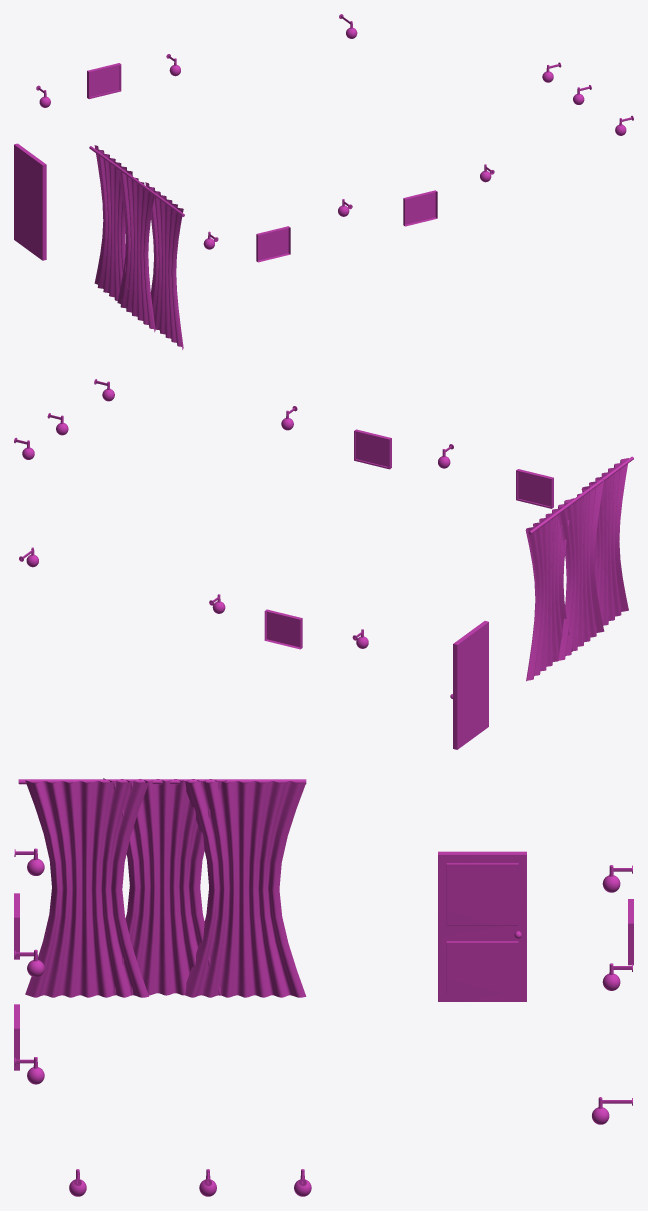
3 views of the same model, one above another, from view 1: azimuth 30°, elevation 25°; view 2: azimuth 150°, elevation 25°; view 3: azimuth 270°, elevation 25° (orthographic). The views are drawn at different scales.
Parts seen in each view (by area): view 1: Uv_003; view 2: Uv_003; view 3: Uv_003.
Part boxes in pixels (x1=…): Uv_003: x1=14, y1=14, x2=633, y2=349; Uv_003: x1=14, y1=379, x2=633, y2=749; Uv_003: x1=14, y1=778, x2=633, y2=1196.
Bounding box in the file's own units: 998 × 291 × 732.
